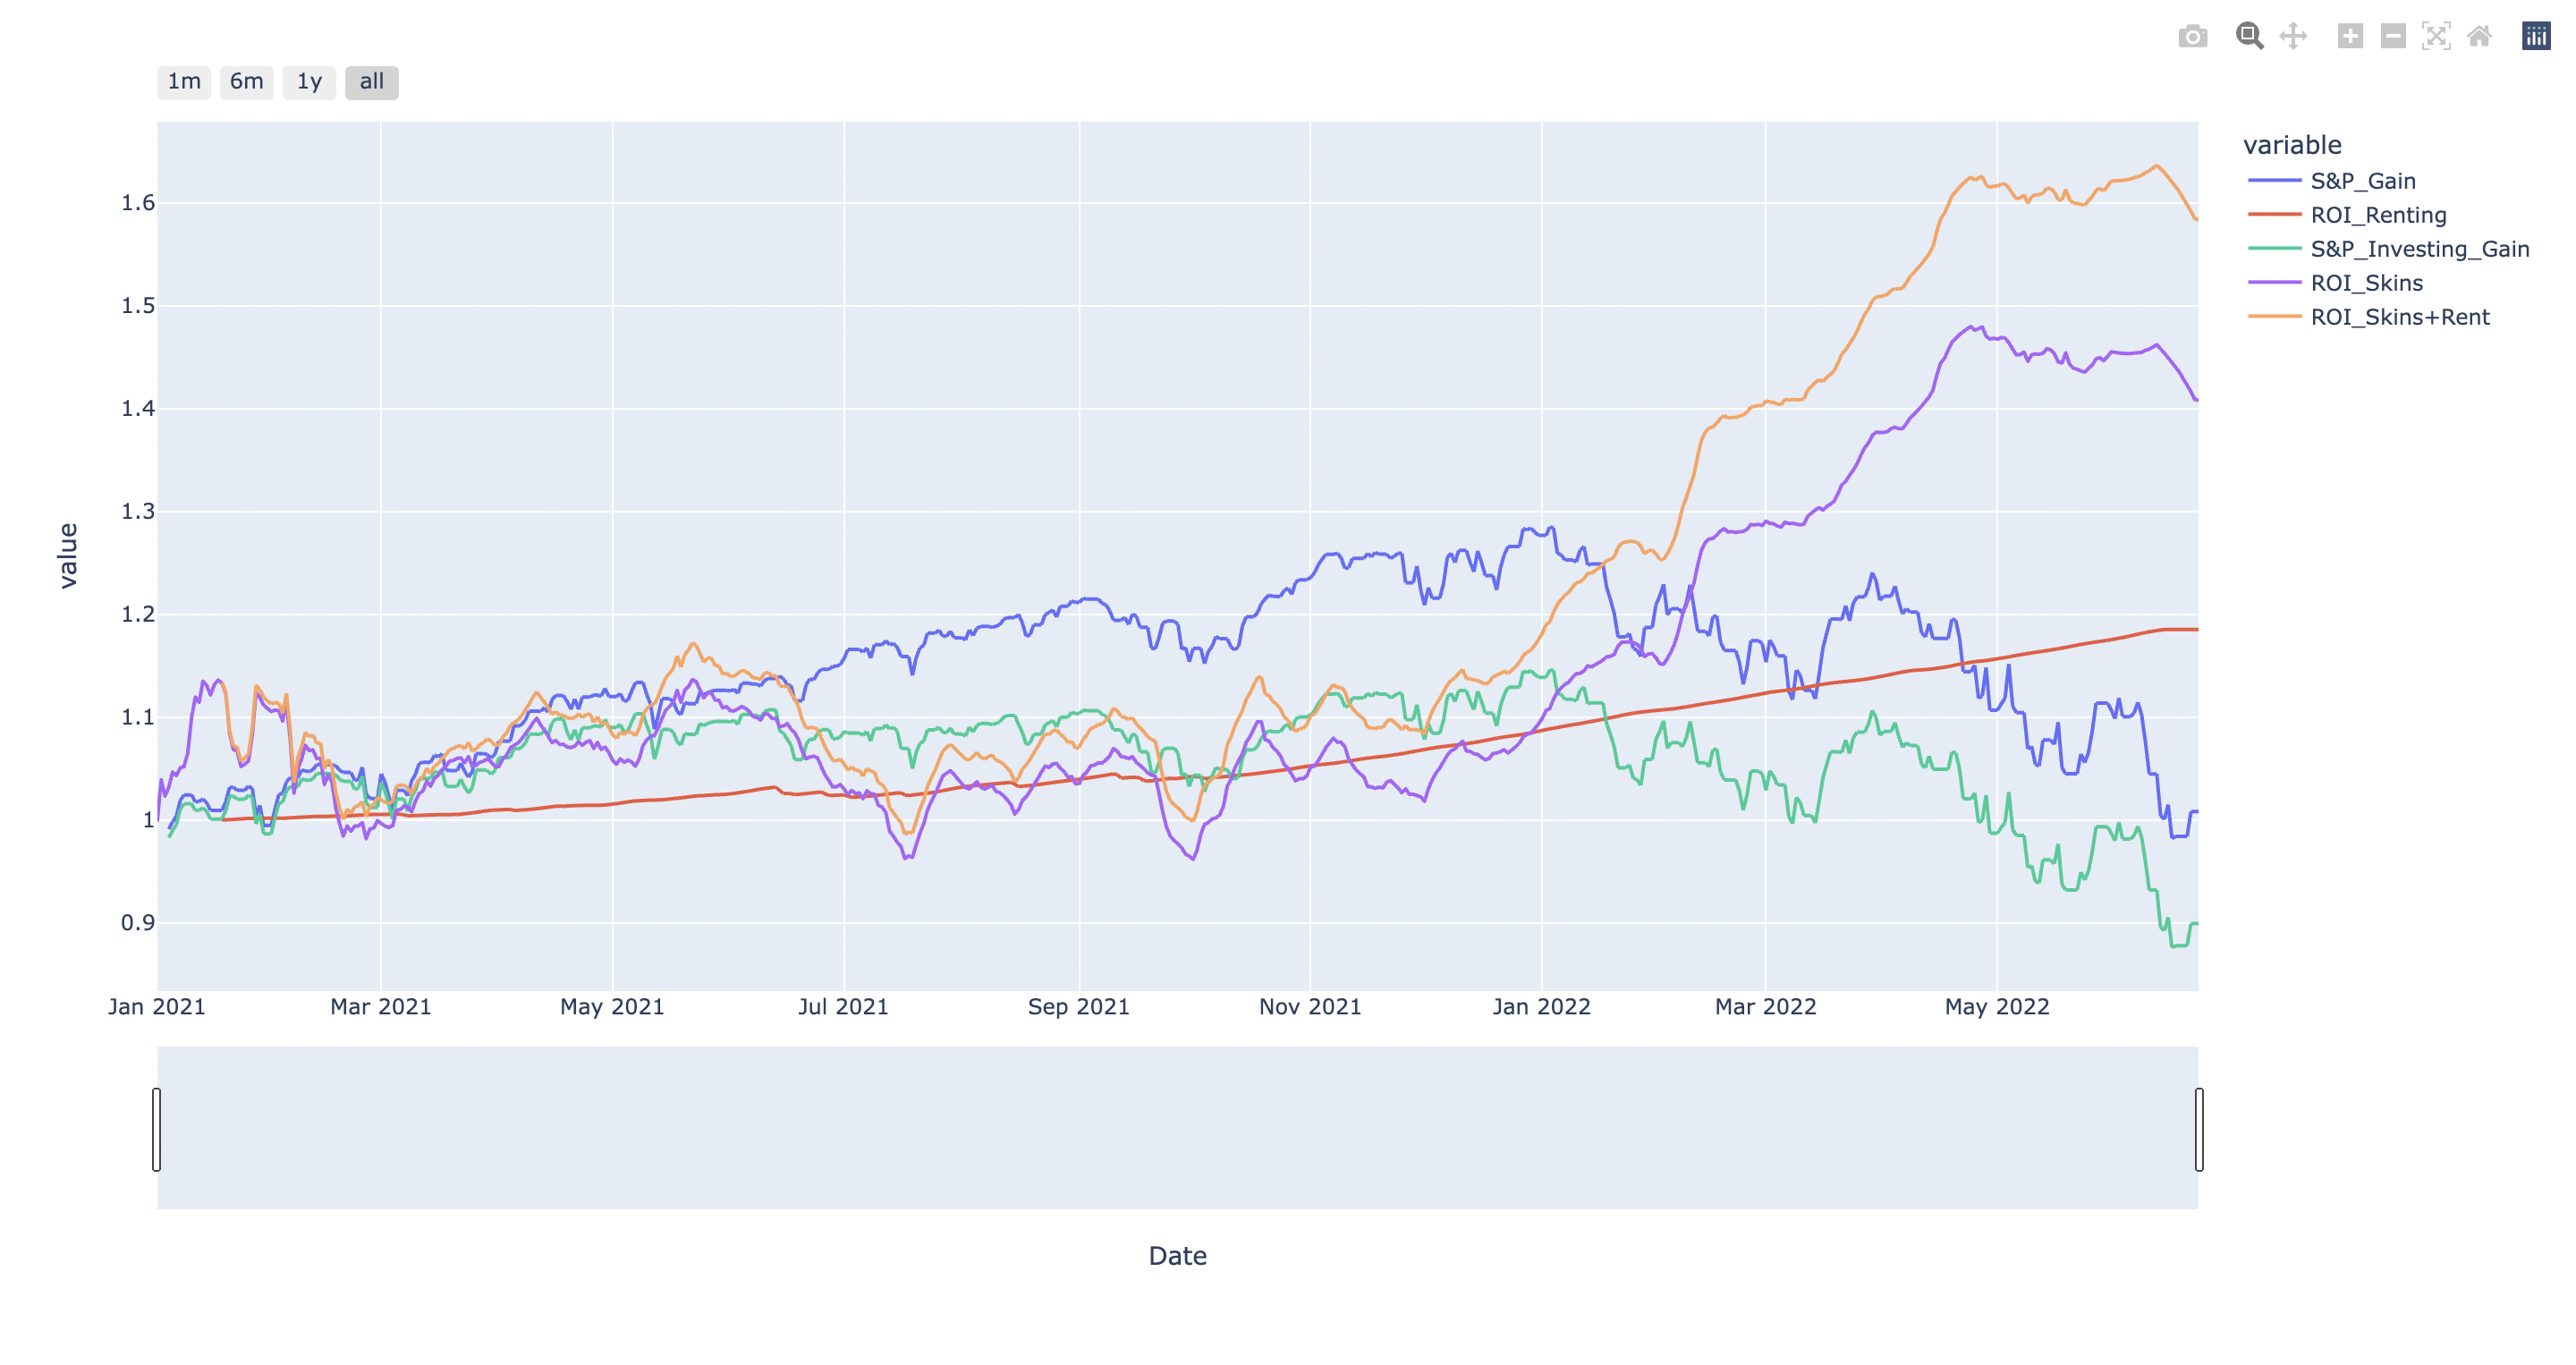

The page's visual inventory and layout, read from the dashboard file:
{"tool":"tableau","page":{"name":"Dashboard 1","canvas":[1000,800],"ordinal":0},"visuals":[{"type":"worksheet","title":"Blatt 1","mark":"Automatic","rows":["Item"],"box":[8,8,984,784]}]}

Visuals, with their boxes on the page's 1000x800 design canvas (x1, y1, x2, y2). These are canvas units, not pixel positions in the 2576x1365 screenshot, which may show the page scaled, cropped or inside an application window:
"Blatt 1" worksheet: left=8, top=8, right=992, bottom=792
